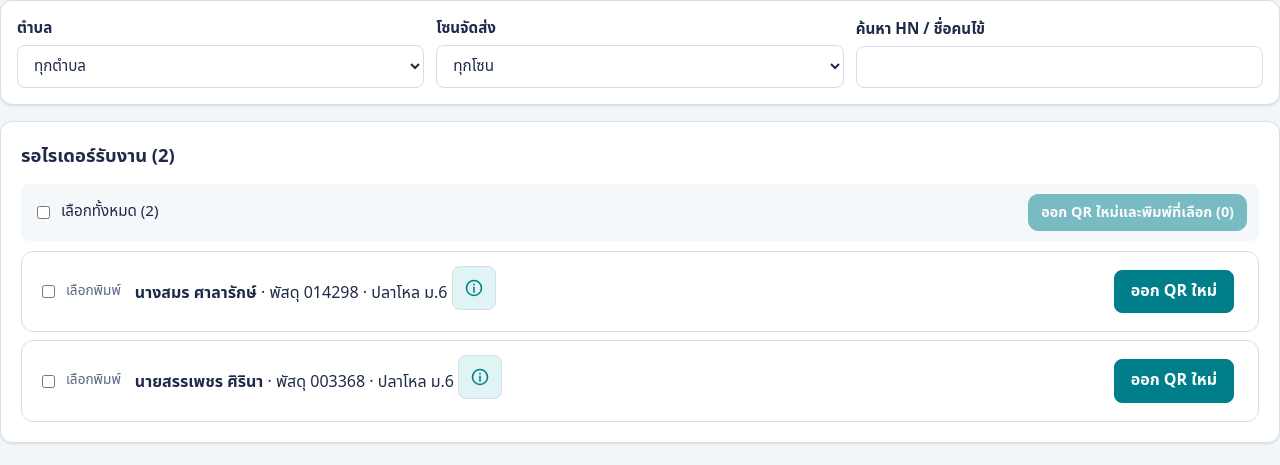
Test: the waiting-for-rider and take-back queues can be searched by HN or name too
The width and height of the screenshot is (1280, 465).
Expected: the heading "รอไรเดอร์รับงาน (2)" is shown, x1=21 y1=142 x2=175 y2=170
Type "สรรเพชร" into the search field labelled "ค้นหา HN / ชื่อคนไข้" at (1059, 67), box x1=856 y1=46 x2=1263 y2=88
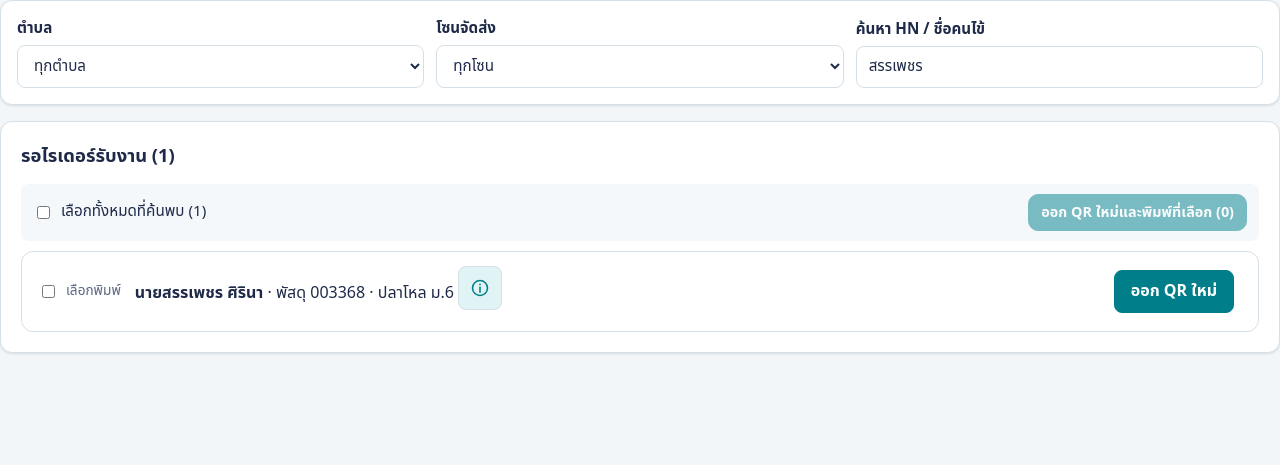
Expected: the heading "รอไรเดอร์รับงาน (1)" is shown, x1=21 y1=142 x2=175 y2=170
Expected: the text "นางสมร ศาลารักษ์" is gone
Replace the text in the search field labelled "ค้นหา HN / ชื่อคนไข้" with "ไม่มีคนนี้" at (1059, 67), box x1=856 y1=46 x2=1263 y2=88
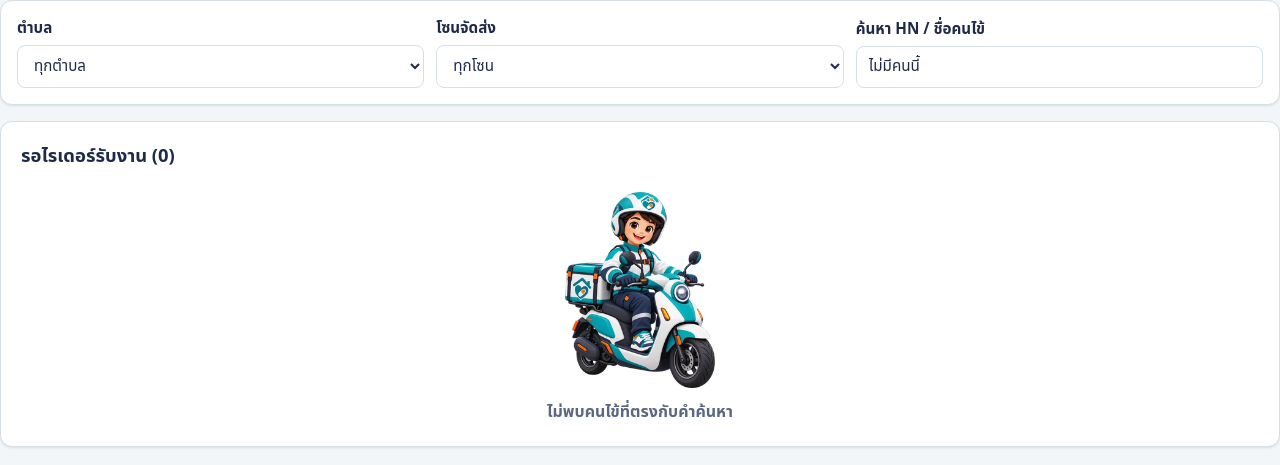
Expected: the text "ไม่พบคนไข้ที่ตรงกับคำค้นหา" is shown, x1=547 y1=400 x2=733 y2=426
